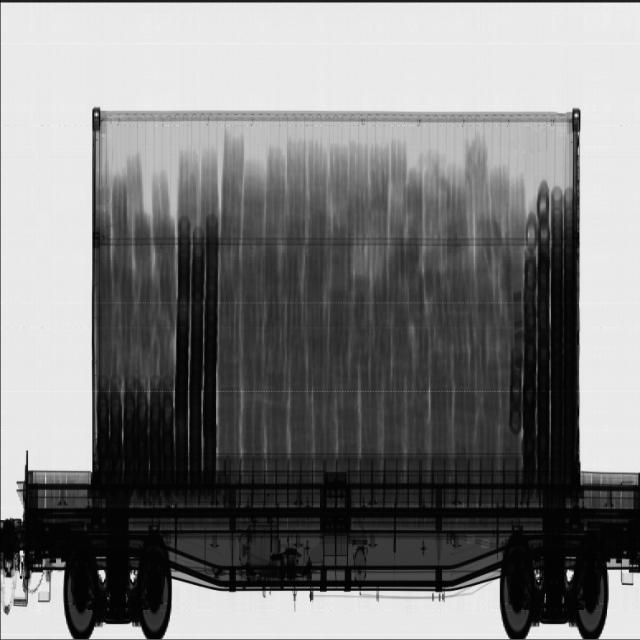textiles: (217, 131, 526, 455)
